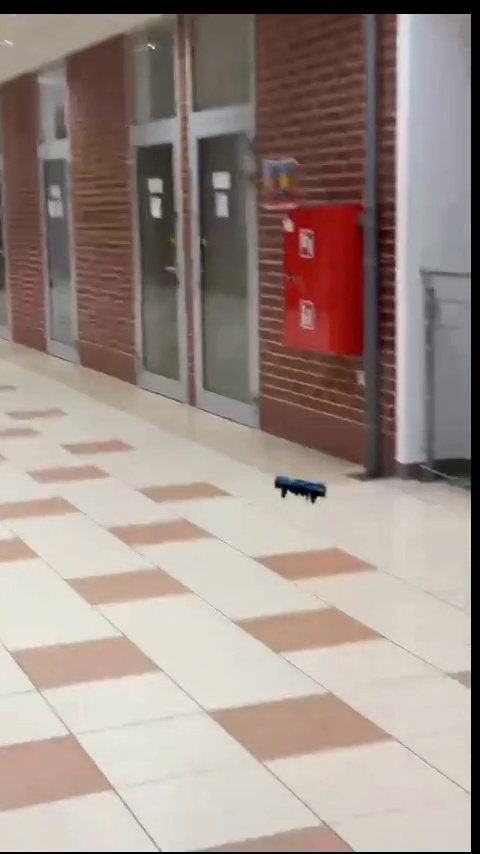drone: (271, 476, 330, 505)
